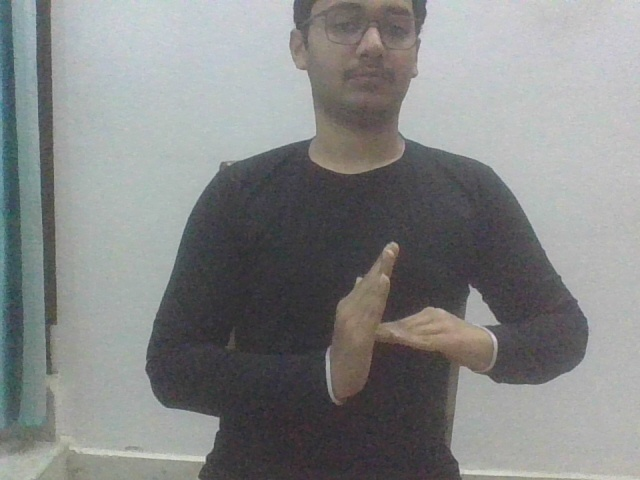Z: (332, 236, 477, 404)
